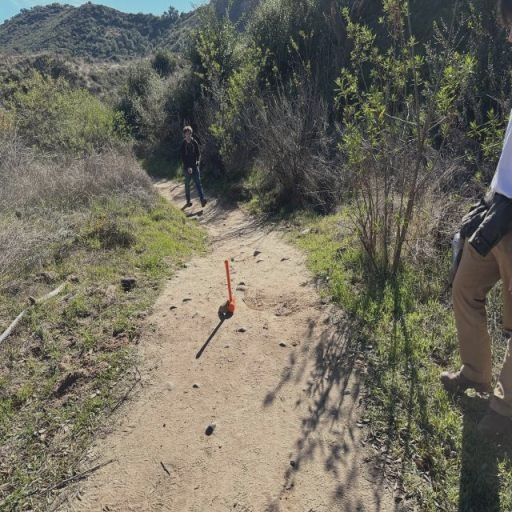mallet: (225, 260, 235, 312)
